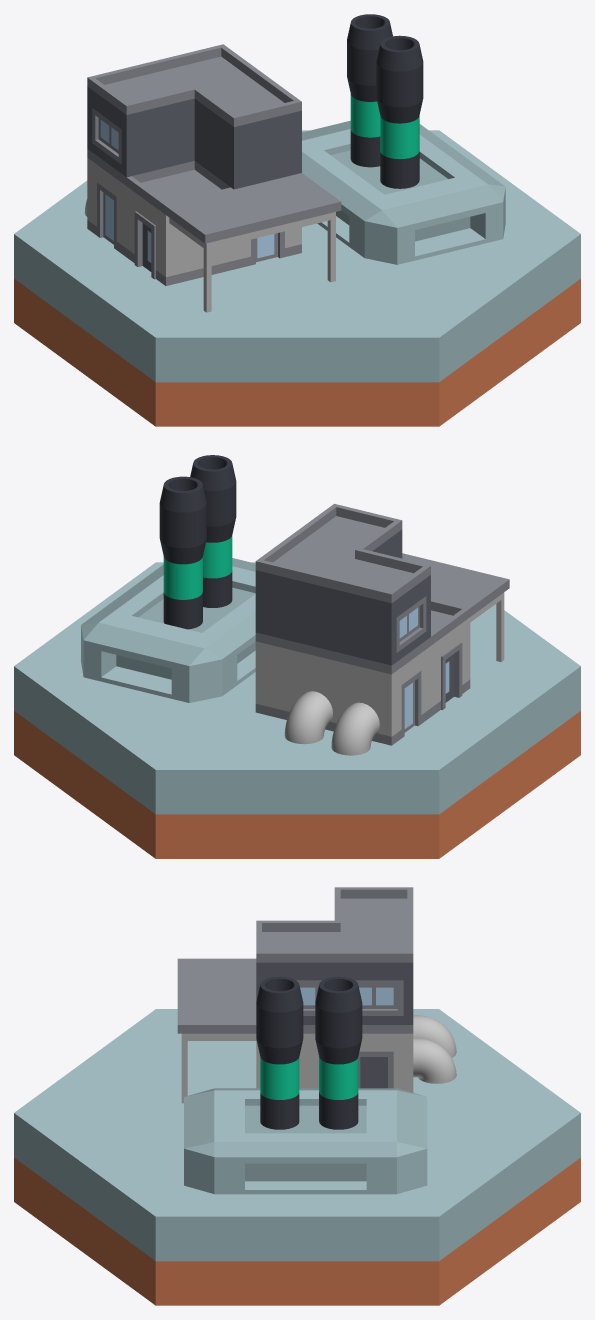
Rendered from humanTileBuildersHut.glb.
3 renders of one model, top to bottom at view 1: azimuth 30°, elevation 25°; view 2: azimuth 150°, elevation 25°; view 3: azimuth 270°, elevation 25°, orthographic.
Parts seen in each view (by area): view 1: mergedBlocks(Clone); view 2: mergedBlocks(Clone); view 3: mergedBlocks(Clone).
Boxes of the visible parts, x1,y1,x2,y2 form: mergedBlocks(Clone): (14,14,580,426); mergedBlocks(Clone): (14,455,580,858); mergedBlocks(Clone): (14,887,580,1305).
Size of the model in its own units: 1 by 0.59 by 1.15.
